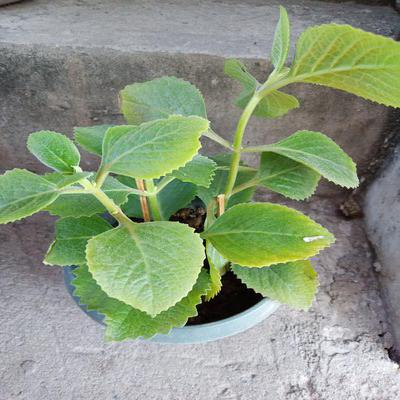Oregano: (39, 116, 344, 335)
